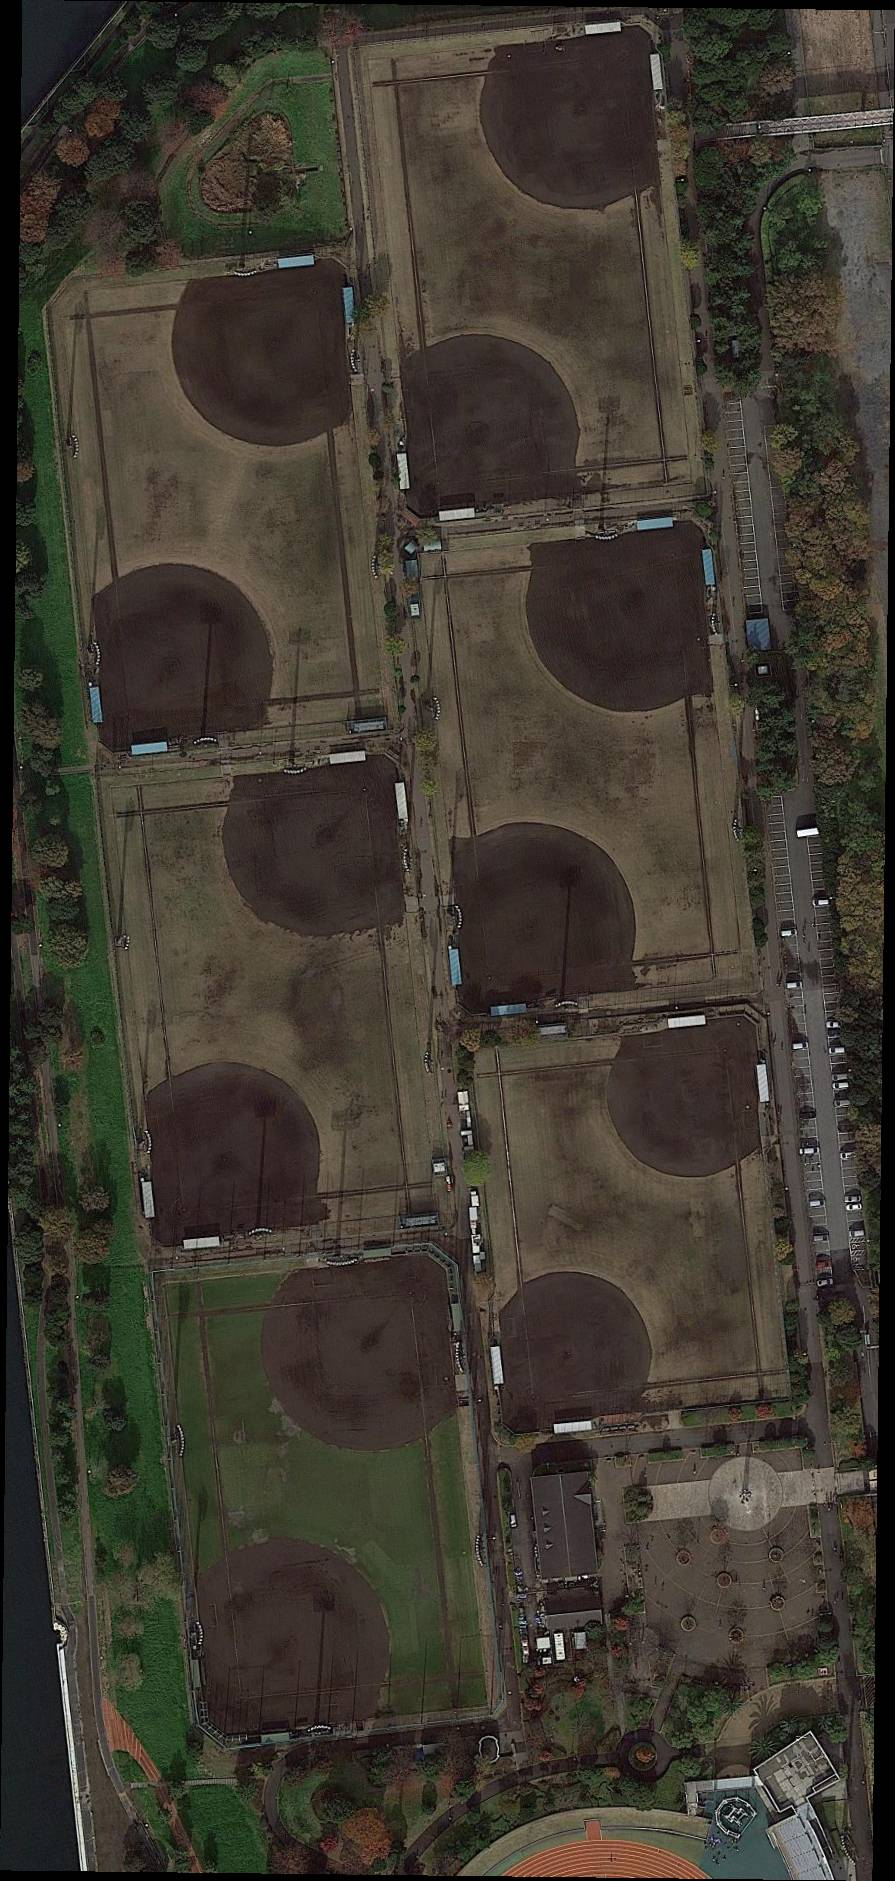baseball diamond: (182, 1536, 406, 1737), (436, 811, 642, 1012), (82, 552, 289, 752), (254, 1255, 462, 1455), (515, 521, 723, 719), (388, 321, 591, 517), (136, 1056, 337, 1245), (215, 756, 413, 946), (170, 265, 360, 459), (471, 30, 662, 216), (591, 1016, 771, 1189), (488, 1269, 667, 1434)
